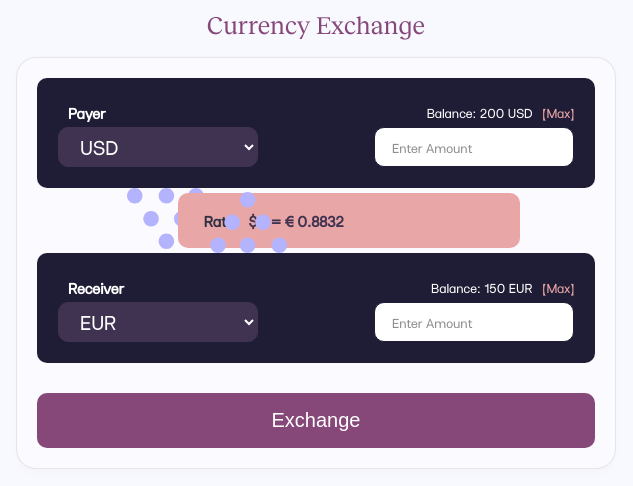
Scenario: calculate amount exchange with amount pay
The width and height of the screenshot is (633, 486).
Expected: the text "$ 1 = € 0.8832" is shown, top-left (248, 212), bottom-right (344, 230)
Type "10" into the number field named "Payer-input" at (474, 147), box top-left (374, 127), bottom-right (574, 167)
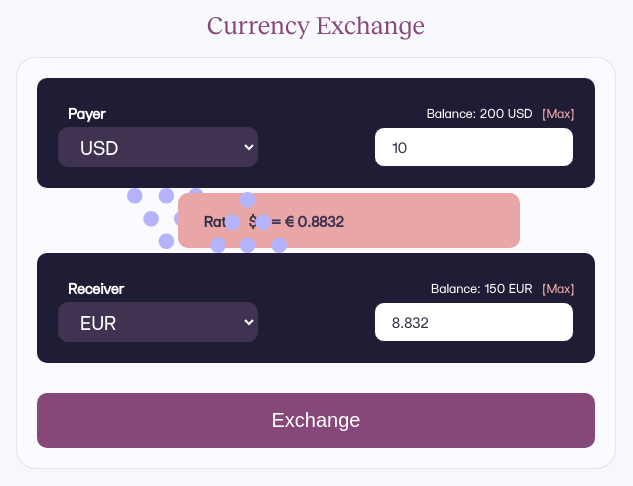
Expected: the number field named "Receiver-input" holds "8.832", top-left (374, 302), bottom-right (574, 342)
